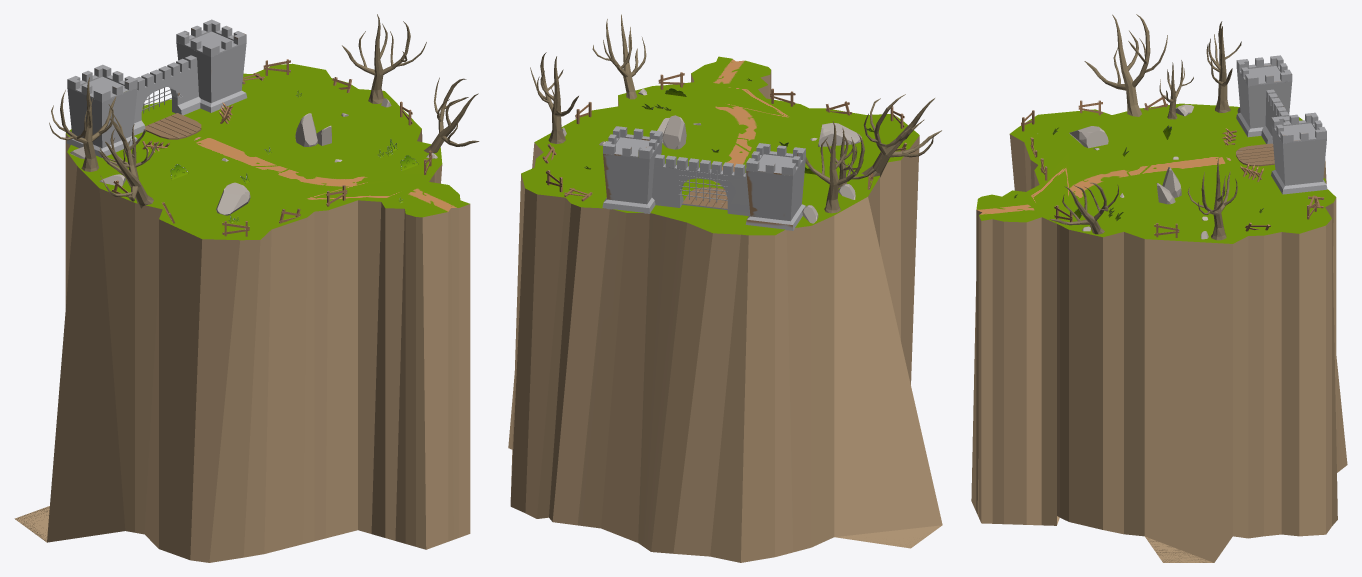
The model's file is door.fbx.
The picture shows the model from 3 angles, left to right: view 1: azimuth 30°, elevation 25°; view 2: azimuth 150°, elevation 25°; view 3: azimuth 270°, elevation 25°; orthographic projection. The views are drawn at different scales.
Visible parts, largest first — view 1: Plane, Plane.001, Cube.041, Trunk.001, Trunk.002, Trunk.007, Trunk.005, Icosphere.005, Icosphere.001; view 2: Plane, Plane.001, Cube.041, Trunk.007, Trunk.002, Trunk.001, Trunk.005, Icosphere.005, Icosphere.001, Cube.012; view 3: Plane, Plane.001, Cube.041, Trunk.007, Trunk.002, Trunk.001, Trunk.005, Icosphere.005, Trunk.3.
Part boxes in pixels (bbox=[...]): Plane: bbox=[14, 129, 470, 562]; Plane.001: bbox=[66, 63, 469, 240]; Cube.041: bbox=[66, 19, 247, 157]; Trunk.001: bbox=[342, 14, 426, 103]; Trunk.002: bbox=[49, 77, 116, 171]; Trunk.007: bbox=[98, 113, 153, 208]; Trunk.005: bbox=[424, 77, 479, 153]; Icosphere.005: bbox=[216, 182, 250, 215]; Icosphere.001: bbox=[295, 113, 317, 146]; Plane: bbox=[508, 70, 942, 562]; Plane.001: bbox=[521, 56, 919, 235]; Cube.041: bbox=[602, 126, 805, 230]; Trunk.007: bbox=[861, 94, 941, 177]; Trunk.002: bbox=[805, 121, 881, 213]; Trunk.001: bbox=[530, 52, 578, 143]; Trunk.005: bbox=[592, 14, 646, 99]; Icosphere.005: bbox=[818, 123, 861, 146]; Icosphere.001: bbox=[662, 115, 686, 149]; Cube.012: bbox=[678, 167, 727, 202]; Plane: bbox=[971, 134, 1347, 562]; Plane.001: bbox=[976, 103, 1336, 243]; Cube.041: bbox=[1236, 55, 1327, 194]; Trunk.007: bbox=[1084, 14, 1167, 116]; Trunk.002: bbox=[1206, 21, 1241, 112]; Trunk.001: bbox=[1187, 158, 1237, 240]; Trunk.005: bbox=[1049, 182, 1118, 234]; Icosphere.005: bbox=[1069, 126, 1108, 148]; Trunk.3: bbox=[1159, 60, 1193, 119].
Size of the model in its own units: 15497 by 15022 by 13262.
18 materials, 17 textured.
